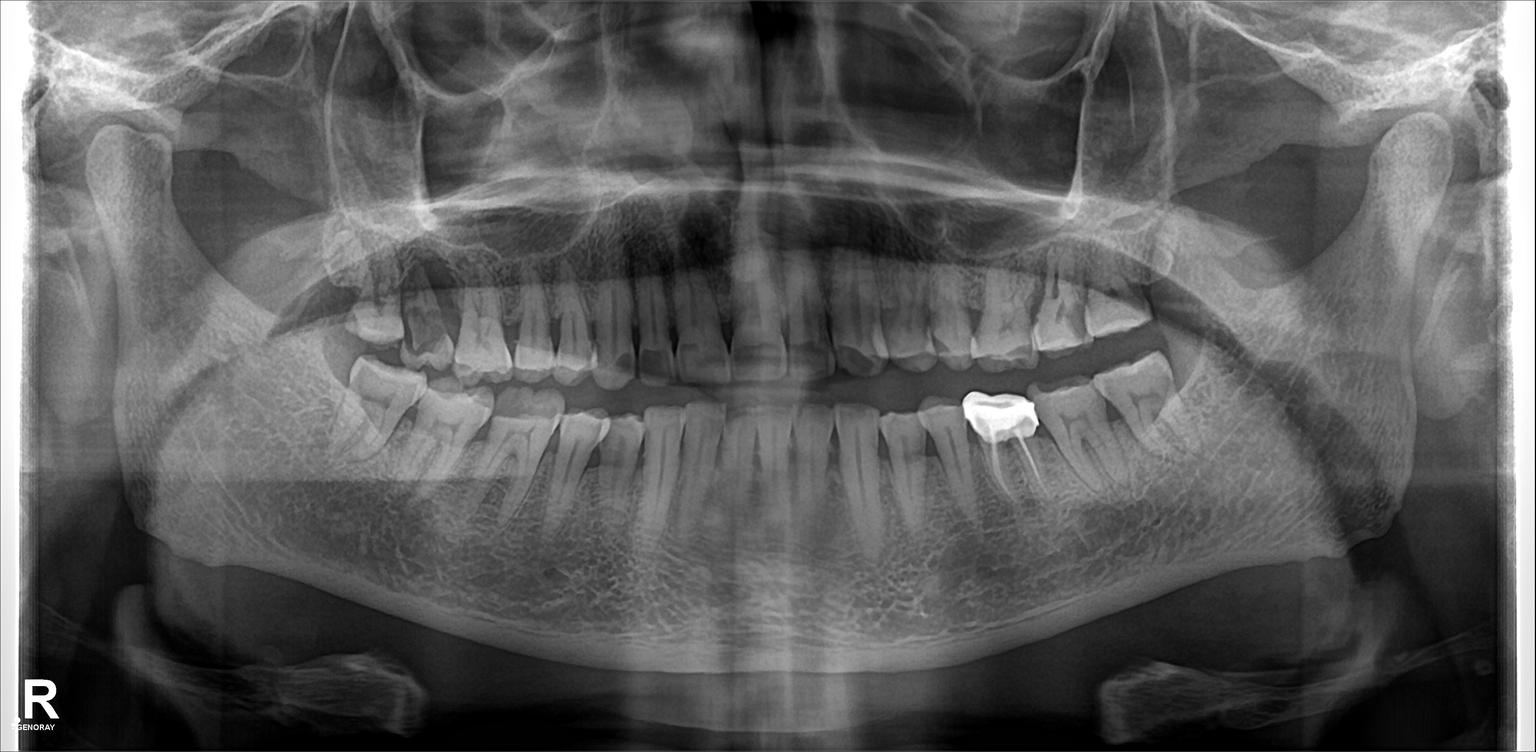Dental Caries: (408, 303, 439, 356), (641, 348, 667, 381)
Endodontically Treated Tooth: (972, 396, 1046, 511)
Missing Tooth: (313, 270, 364, 344)
